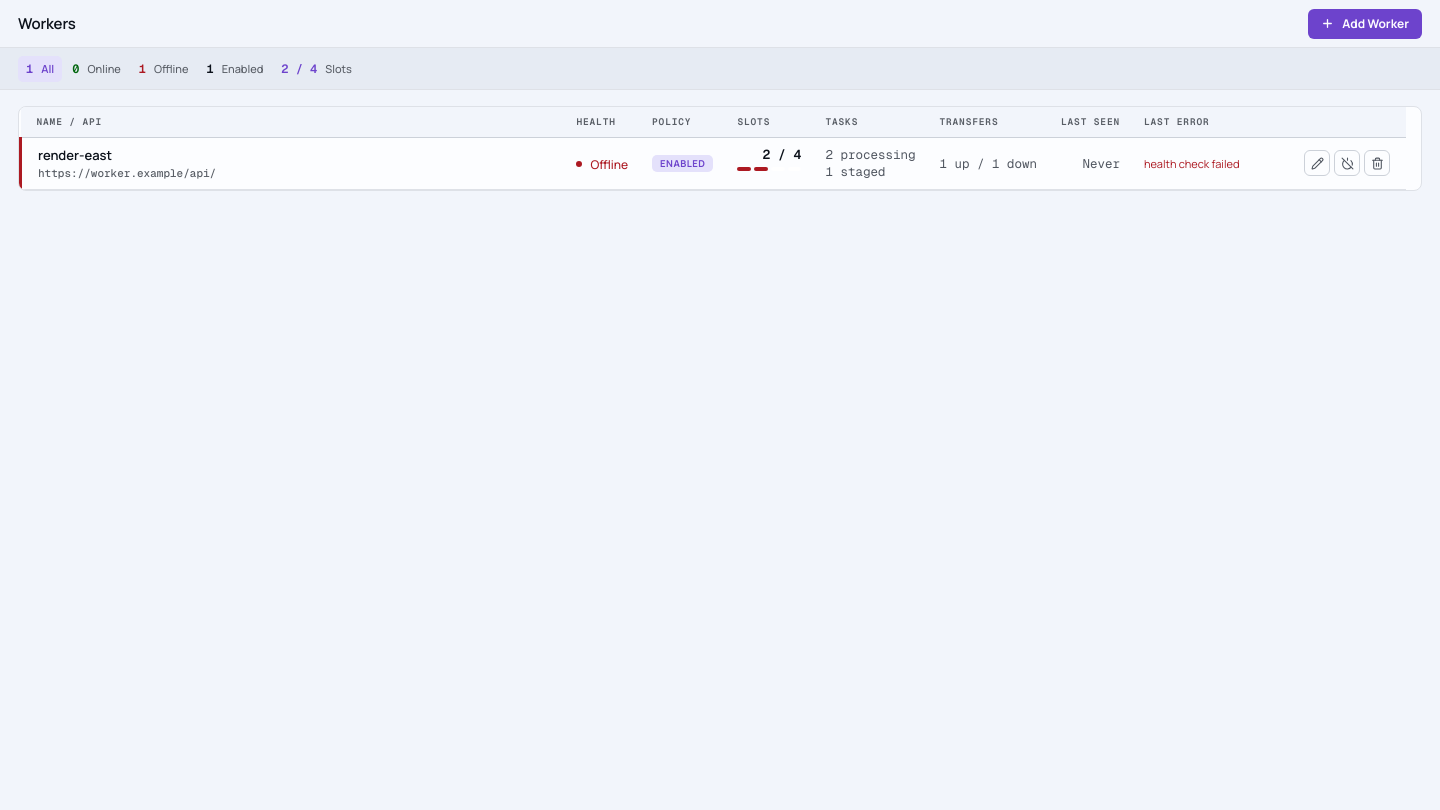
Test case: Workers page › renders dense operational state and an accessible add dialog
The image size is (1440, 810).
Expected: the text "render-east" is shown, [38,146,112,164]
Click the button "Add Worker" at (1365, 24), box [1308,8,1422,38]
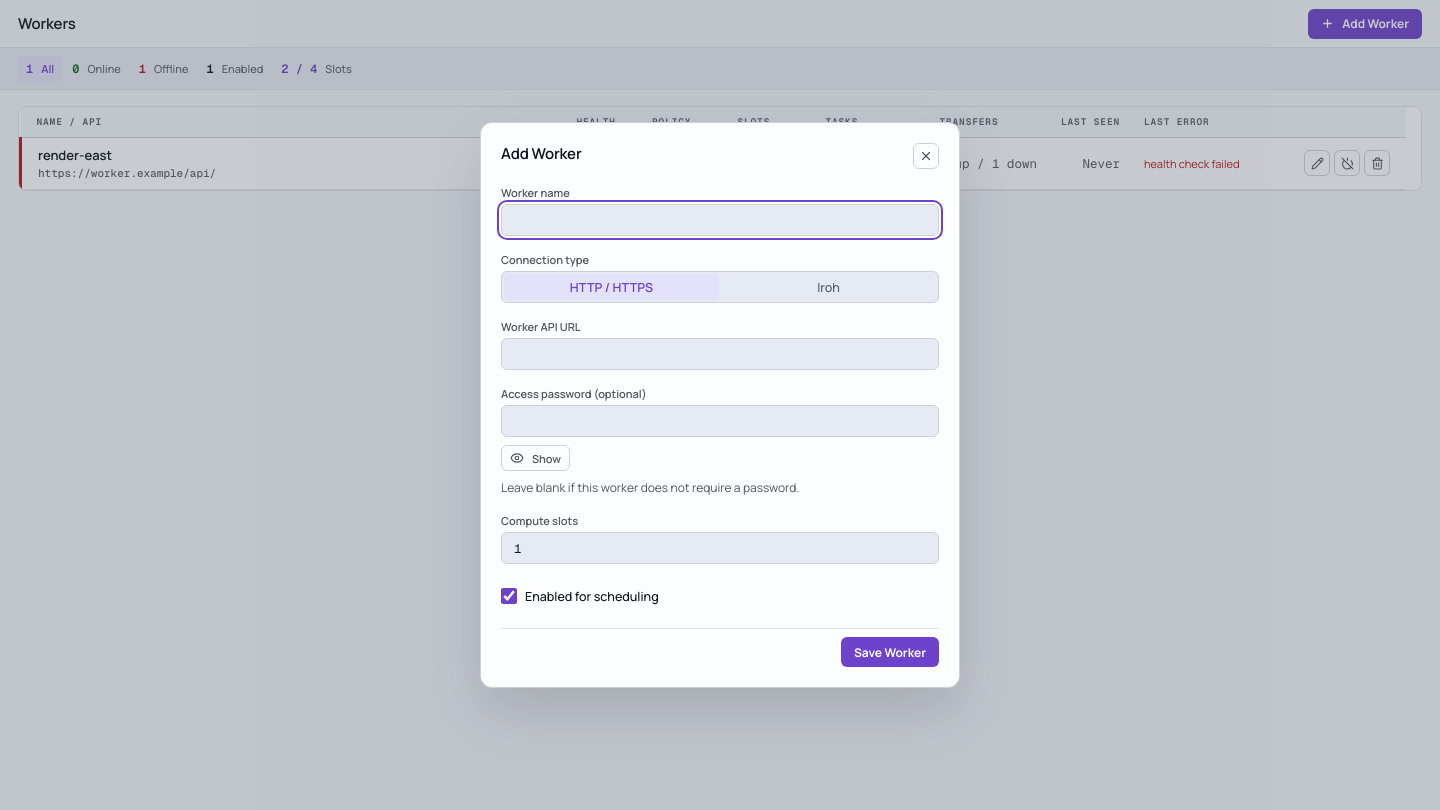
Expected: the text "health check failed" is shown, [1132,137,1292,190]
Expected: the dialog "Add Worker" is shown, [480,122,960,688]
